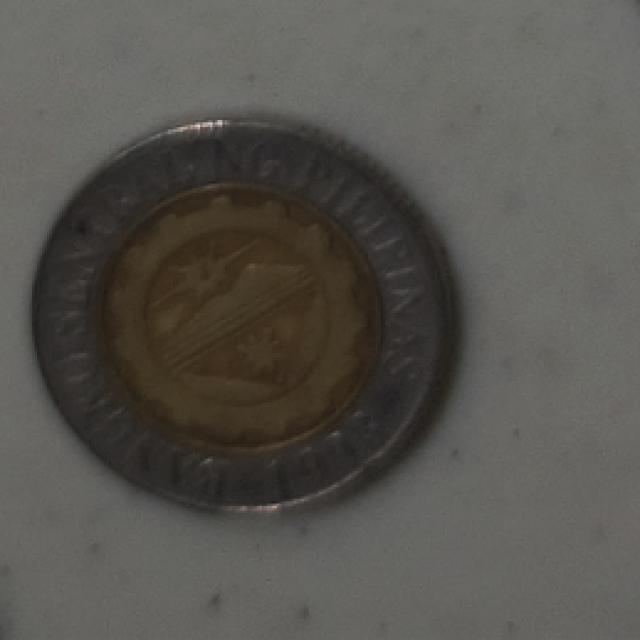10_peso: (35, 122, 452, 508)
